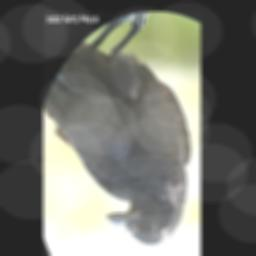Crow: (44, 13, 192, 246)
